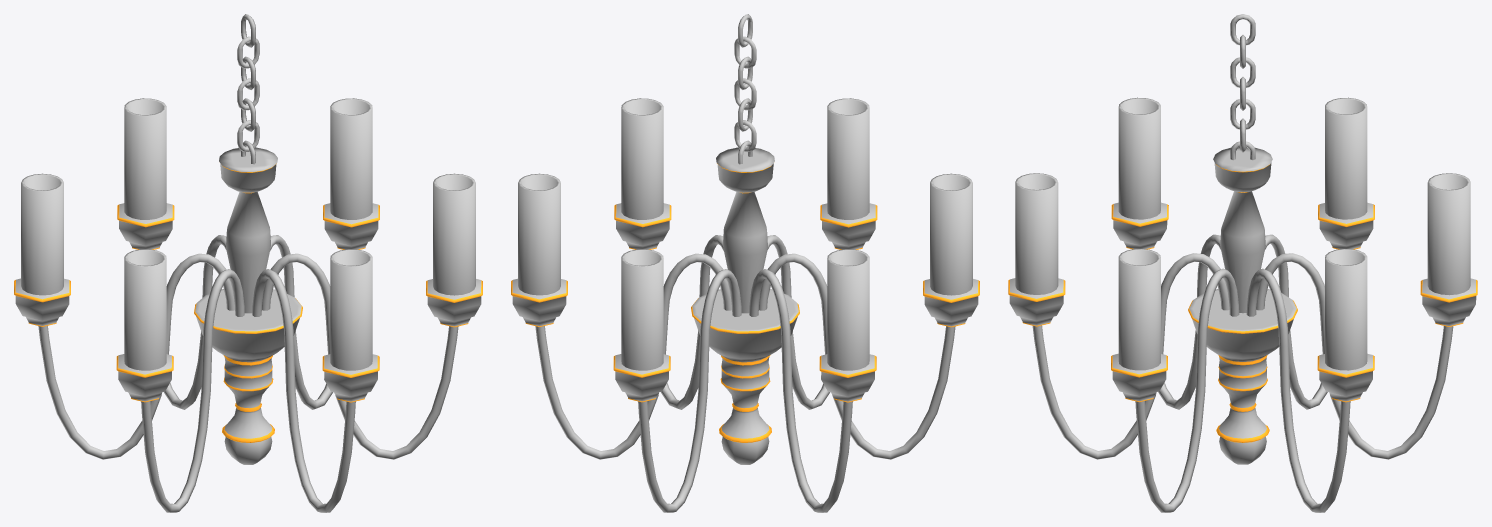
Rendered from Ceiling-Light-003.fbx.
3 renders of one model, left to right at view 1: azimuth 30°, elevation 25°; view 2: azimuth 150°, elevation 25°; view 3: azimuth 270°, elevation 25°, orthographic.
Visible parts, largest first — view 1: Stem-Base, Stem-Top, Light-Holder-004, Light-Holder-003, Light-Holder-001, Light-Holder-006, Light-Holder-002, Light-Holder-005, Arm-006, Arm-001, Arm-005, Arm-002 (+8 smaller); view 2: Stem-Base, Stem-Top, Light-Holder-001, Light-Holder-002, Light-Holder-005, Light-Holder-006, Light-Holder-004, Light-Holder-003, Arm-005, Arm-004, Arm-003, Arm-006 (+8 smaller); view 3: Stem-Base, Stem-Top, Light-Holder-004, Light-Holder-001, Light-Holder-005, Light-Holder-006, Light-Holder-002, Light-Holder-003, Arm-002, Arm-003, Arm-001, Arm-004 (+8 smaller).
Boxes of the visible parts, bbox=[...] form: Stem-Base: bbox=[194, 289, 302, 464]; Stem-Top: bbox=[219, 147, 277, 313]; Light-Holder-004: bbox=[124, 98, 166, 219]; Light-Holder-003: bbox=[330, 98, 372, 219]; Light-Holder-001: bbox=[330, 249, 372, 370]; Light-Holder-006: bbox=[124, 249, 166, 370]; Light-Holder-002: bbox=[433, 173, 475, 295]; Light-Holder-005: bbox=[21, 173, 63, 295]; Arm-006: bbox=[141, 269, 244, 512]; Arm-001: bbox=[252, 269, 355, 512]; Arm-005: bbox=[38, 253, 234, 459]; Arm-002: bbox=[262, 253, 458, 459]; Stem-Base: bbox=[691, 289, 799, 464]; Stem-Top: bbox=[716, 147, 774, 313]; Light-Holder-001: bbox=[827, 98, 869, 219]; Light-Holder-002: bbox=[621, 98, 663, 219]; Light-Holder-005: bbox=[827, 249, 869, 370]; Light-Holder-006: bbox=[930, 173, 972, 295]; Light-Holder-004: bbox=[621, 249, 663, 370]; Light-Holder-003: bbox=[518, 173, 560, 295]; Arm-005: bbox=[749, 269, 852, 512]; Arm-004: bbox=[638, 269, 741, 512]; Arm-003: bbox=[535, 253, 731, 459]; Arm-006: bbox=[759, 253, 955, 459]; Stem-Base: bbox=[1188, 289, 1297, 464]; Stem-Top: bbox=[1213, 147, 1272, 313]; Light-Holder-004: bbox=[1427, 173, 1470, 295]; Light-Holder-001: bbox=[1015, 173, 1058, 294]; Light-Holder-005: bbox=[1325, 97, 1367, 219]; Light-Holder-006: bbox=[1118, 97, 1160, 219]; Light-Holder-002: bbox=[1118, 248, 1160, 370]; Light-Holder-003: bbox=[1325, 248, 1367, 370]; Arm-002: bbox=[1135, 268, 1239, 512]; Arm-003: bbox=[1246, 268, 1350, 512]; Arm-001: bbox=[1032, 253, 1229, 459]; Arm-004: bbox=[1256, 253, 1453, 459].
Size of the model in its own units: 35.42 by 41.46 by 39.29.
